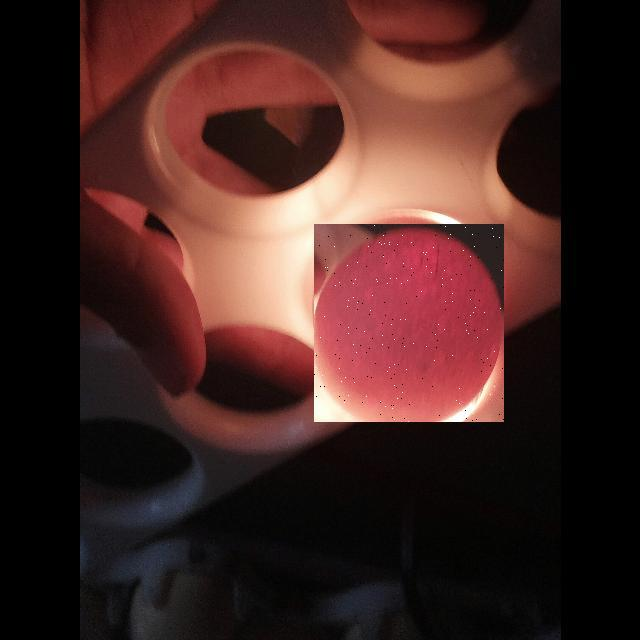Fertile: (314, 224, 504, 422)
